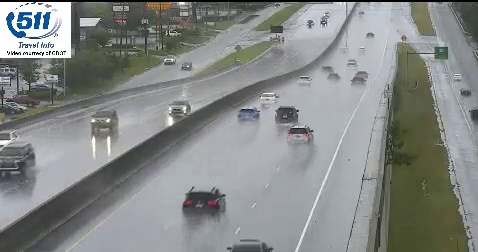car: (182, 186, 226, 215), (287, 126, 314, 145), (275, 106, 298, 124), (237, 107, 259, 122), (259, 93, 277, 106), (297, 75, 311, 85)
